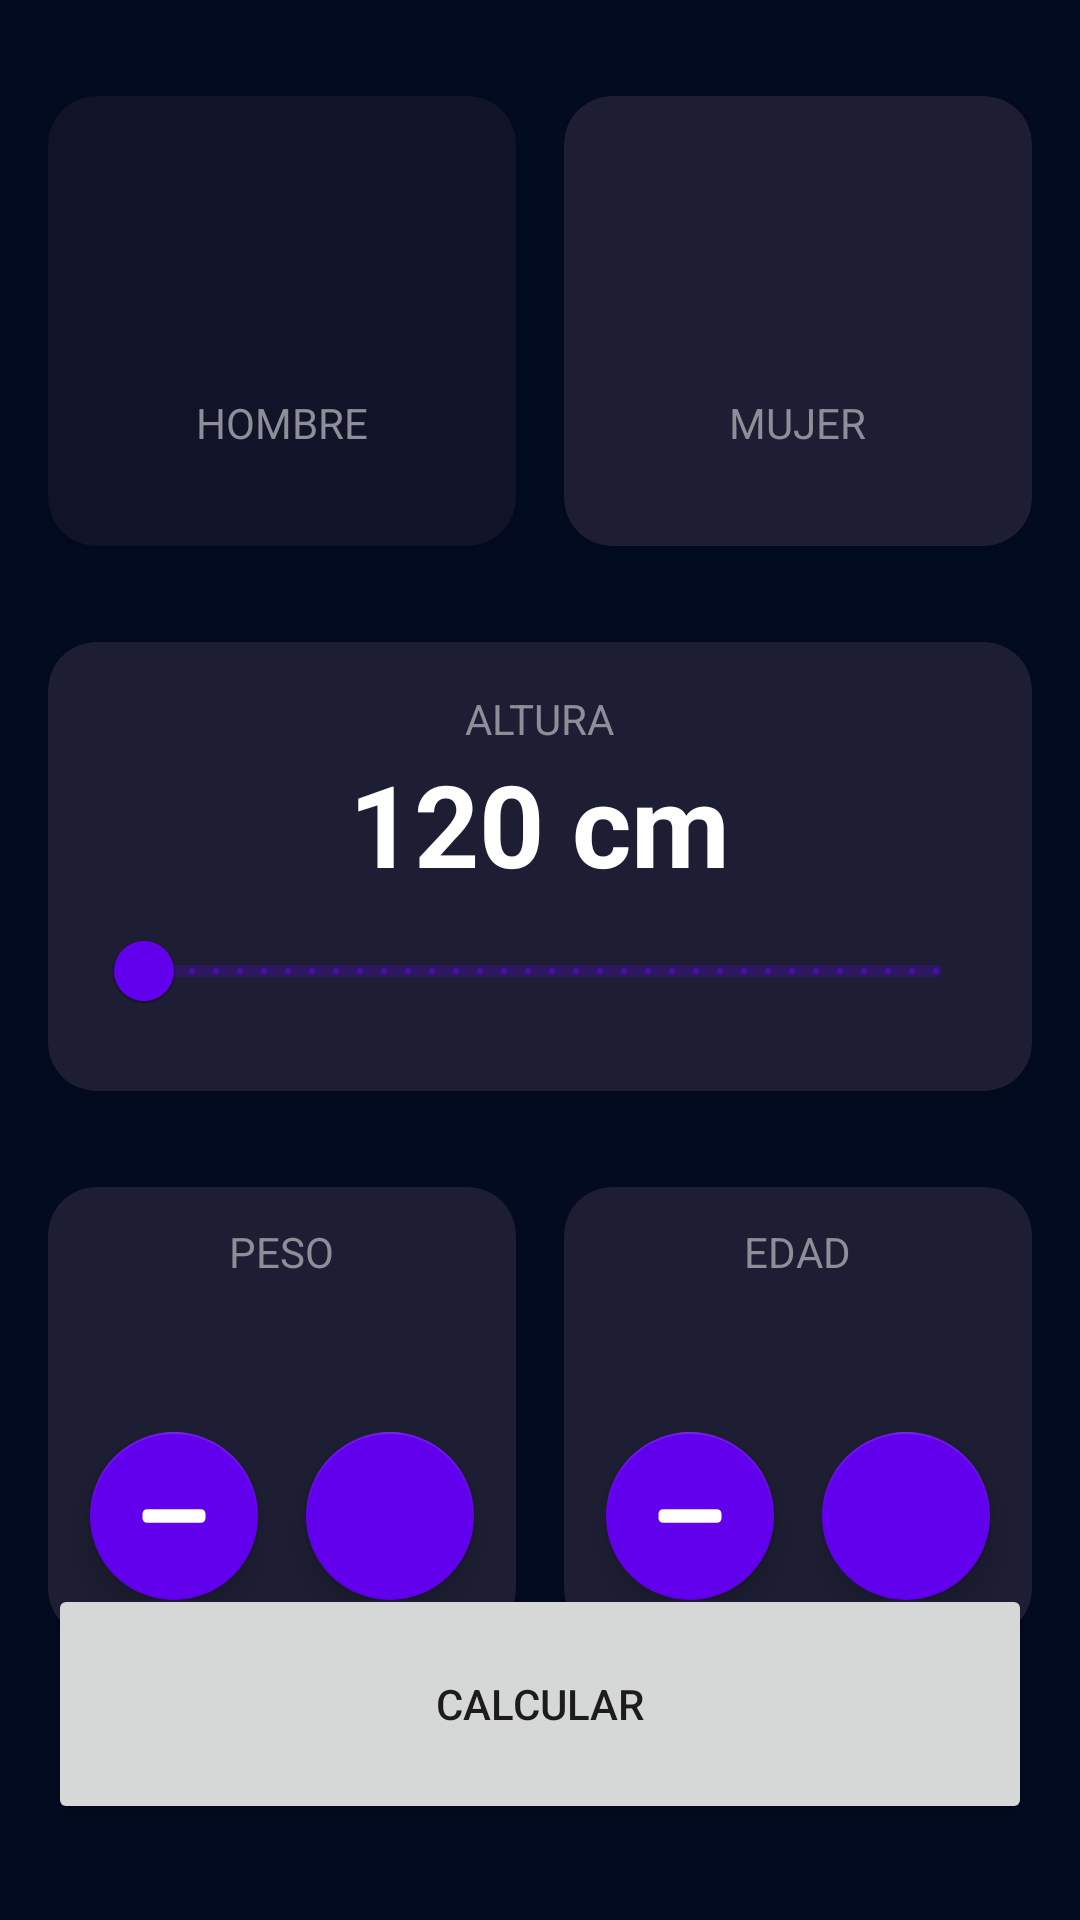

Icon bounding boxes for this 1080*1920 phone screenshot, format (x1, y1, x2, y2):
minus: (90, 1432, 258, 1600), (606, 1432, 774, 1600)
